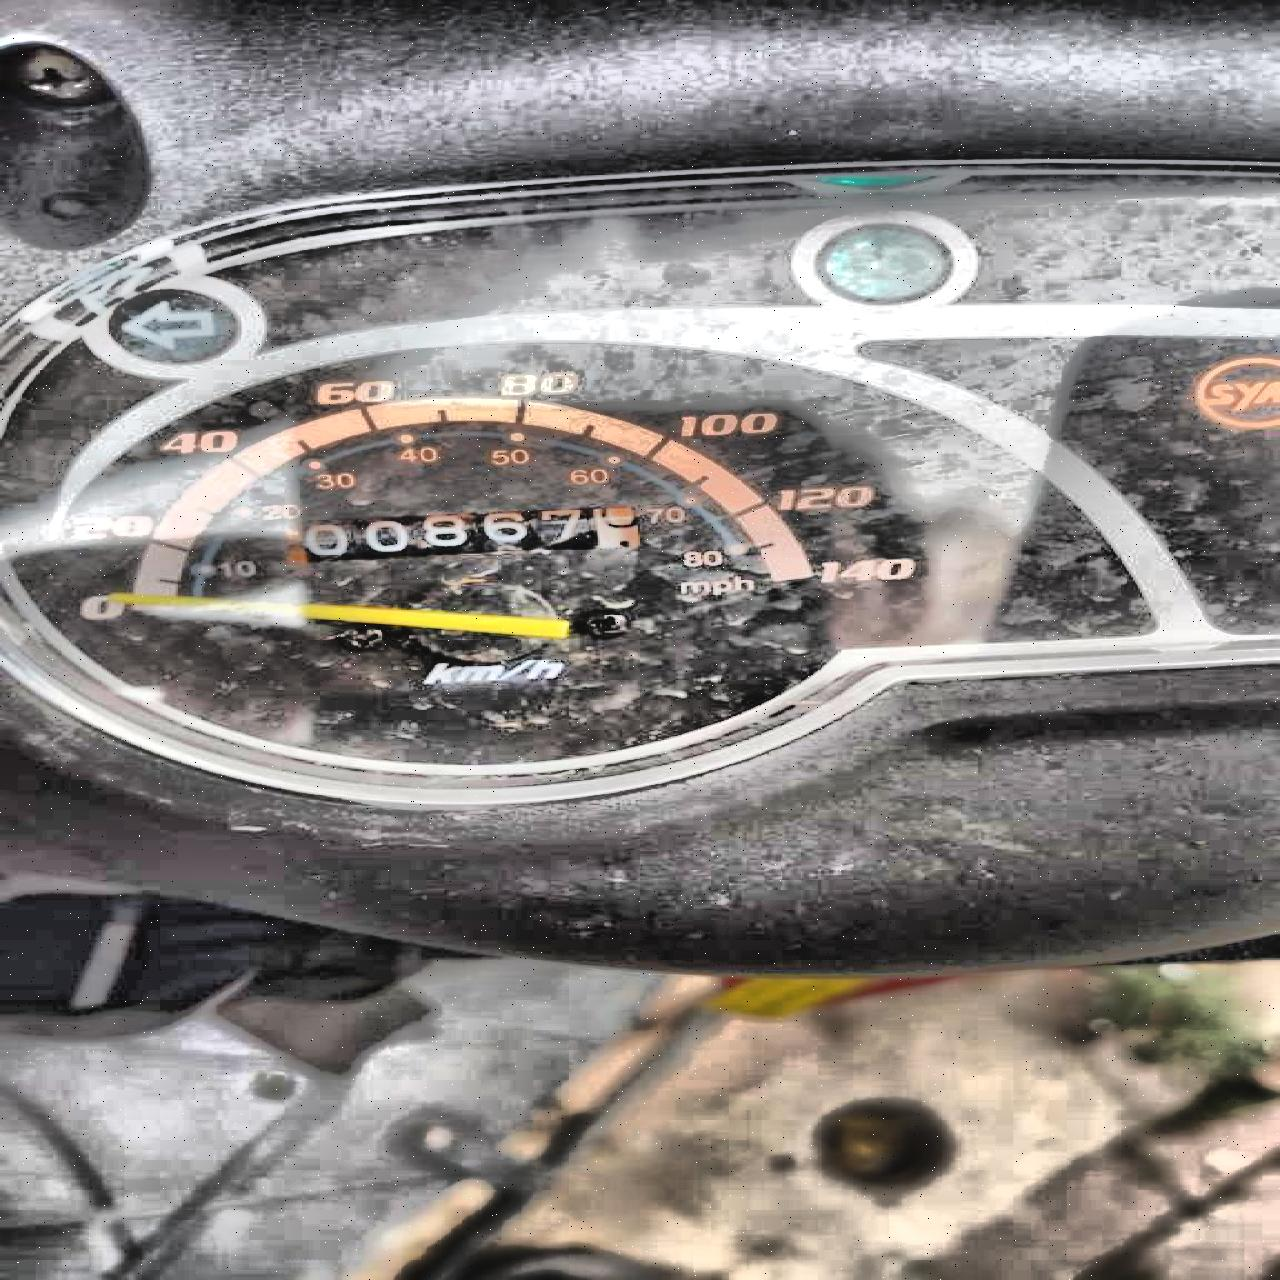0: (360, 515, 411, 556), (300, 523, 350, 557), (591, 502, 640, 533), (282, 503, 302, 518)
6: (481, 509, 526, 543)
7: (536, 505, 586, 542), (645, 506, 662, 524)
8: (421, 511, 467, 549)
odometer: (285, 501, 665, 565)
